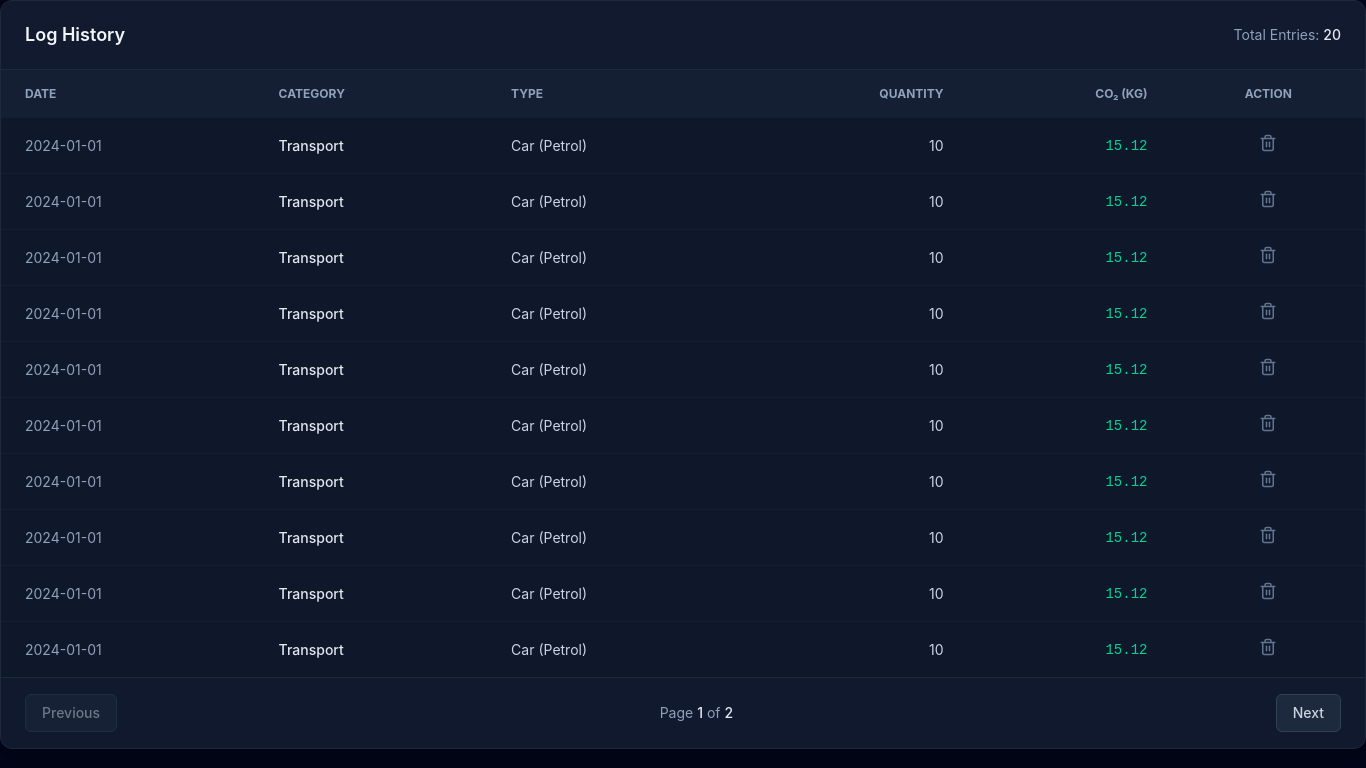
LogTable › 19. currentPage clamps when logs shrink below current page
// Go to page 2
Step 1. Click the button "Next" → coordinates (1308, 713), box [1276, 694, 1341, 732]
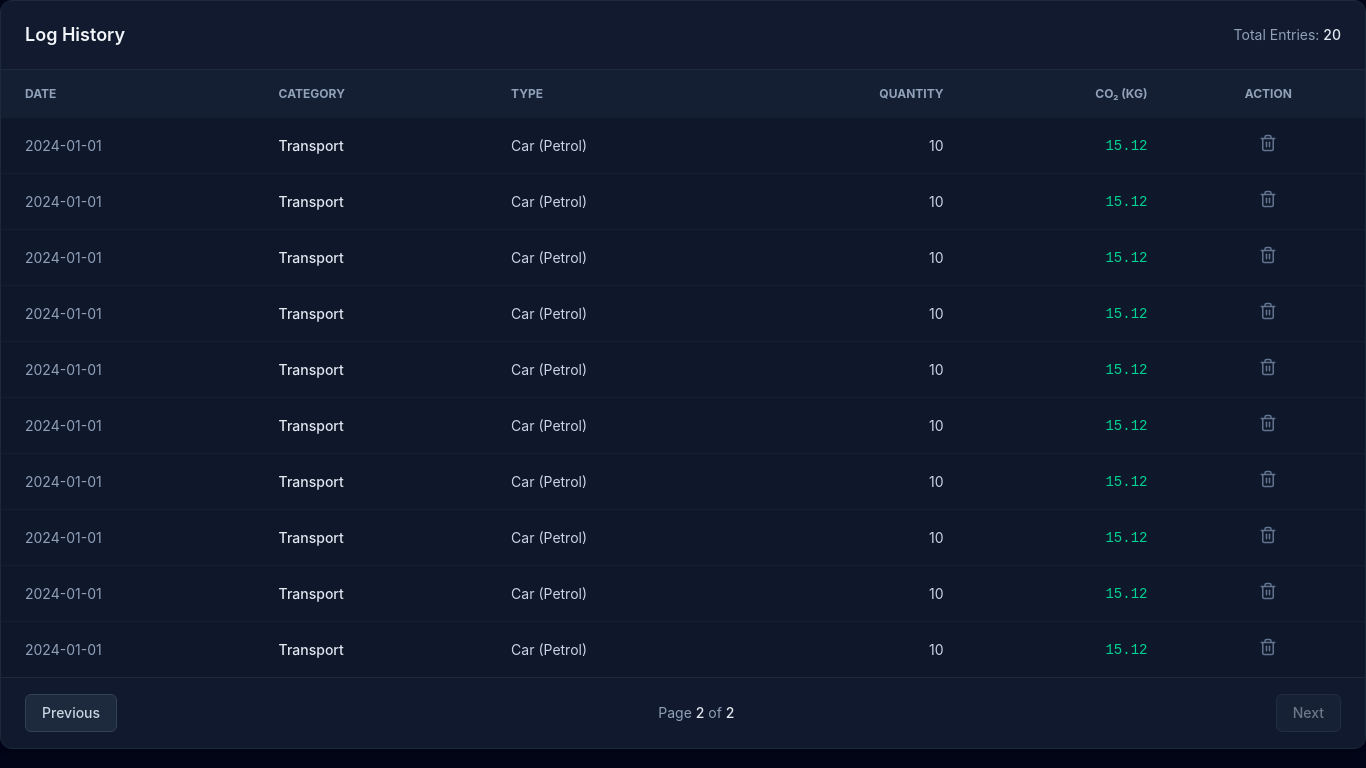
Result: the text "Page 2 of 2" is shown at [658, 703, 734, 723]
